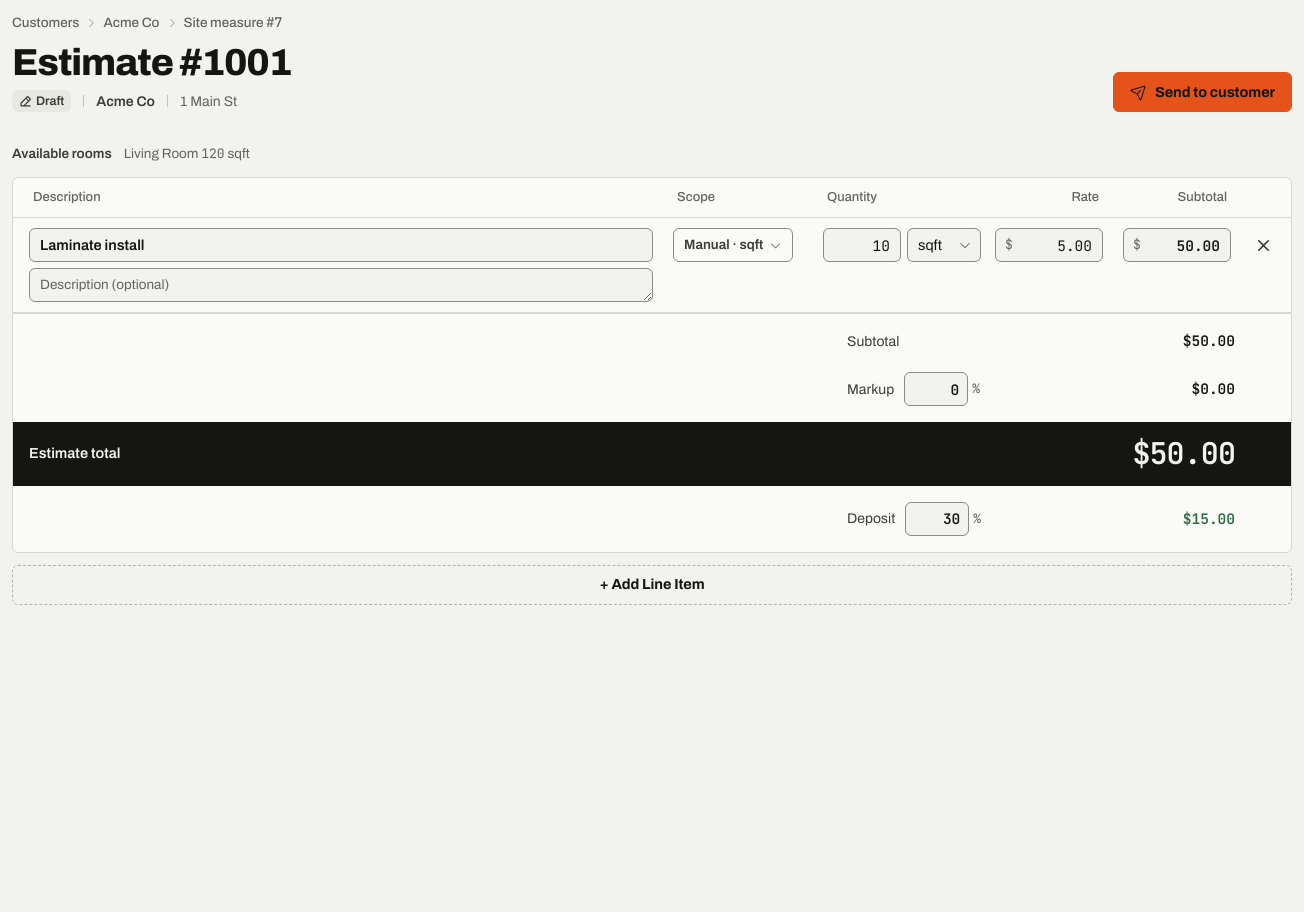
EstimateBuilderView — add line item › adds a row to the displayed draft and persists the new lineItems set
Click the button "+ Add Line Item" at (652, 585), box [12,565,1292,605]
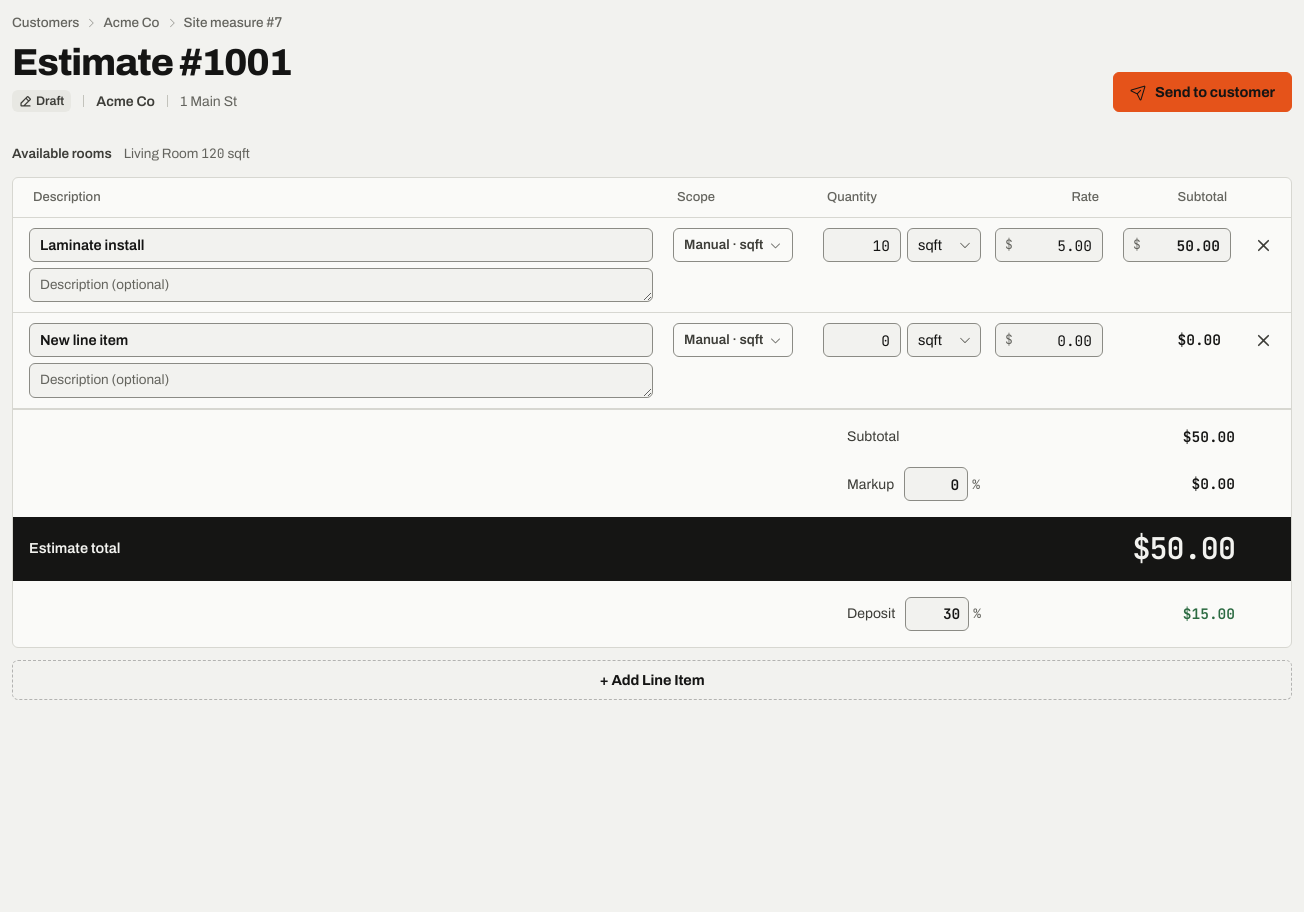
Result: the number of text boxes with placeholder "Description (optional)" is 2 at [29,268,653,302]; [29,363,653,398]
